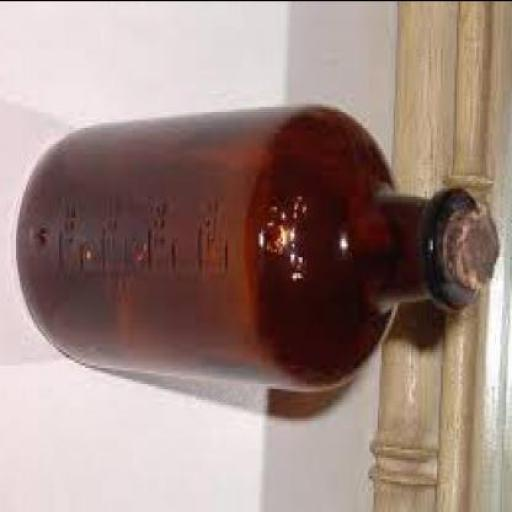glass: (20, 102, 476, 396)
